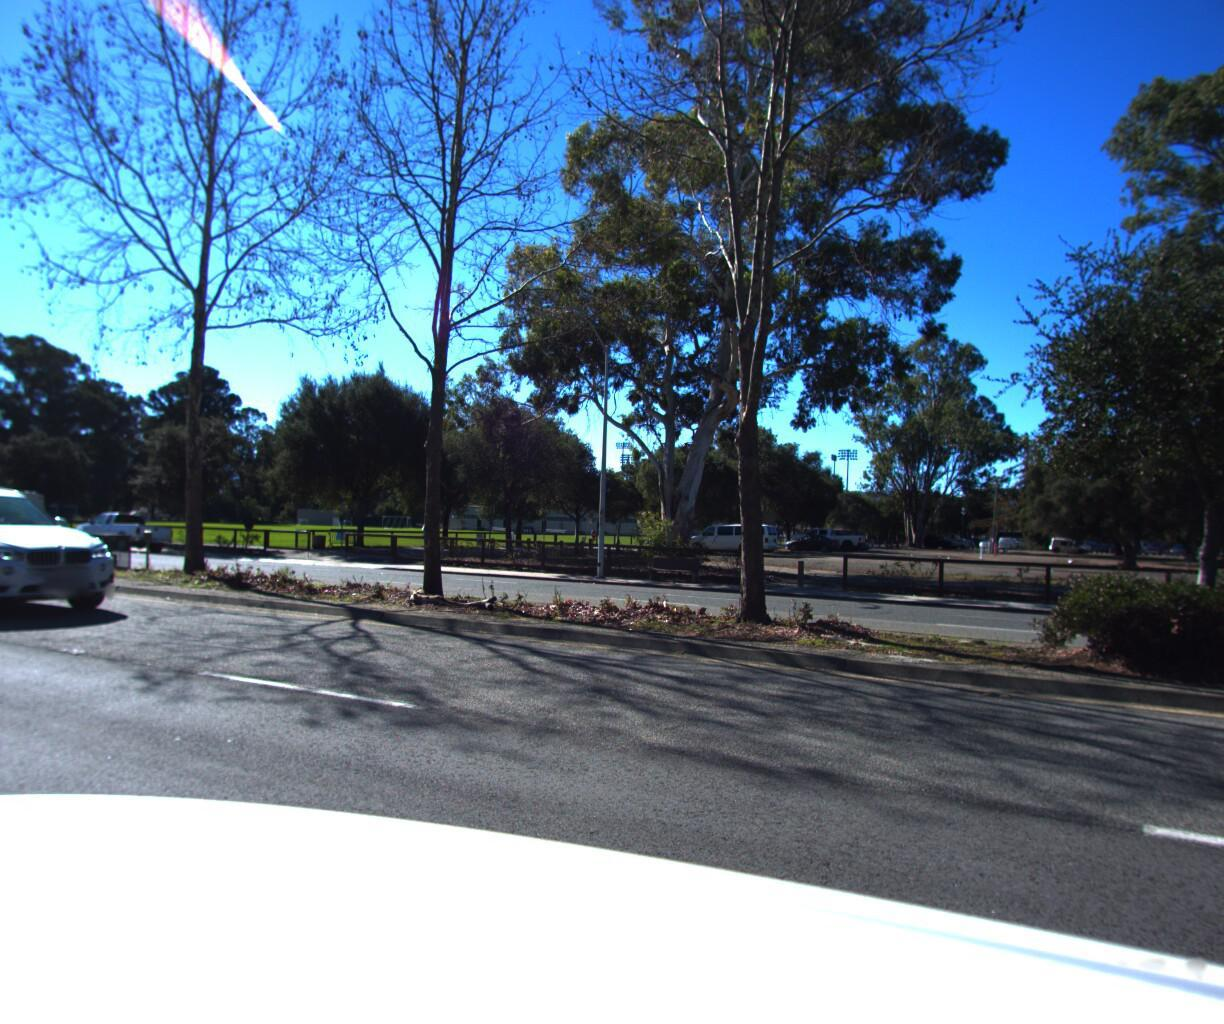car: (0, 479, 143, 628), (65, 505, 181, 553)
other_vehicle: (0, 479, 55, 539)
